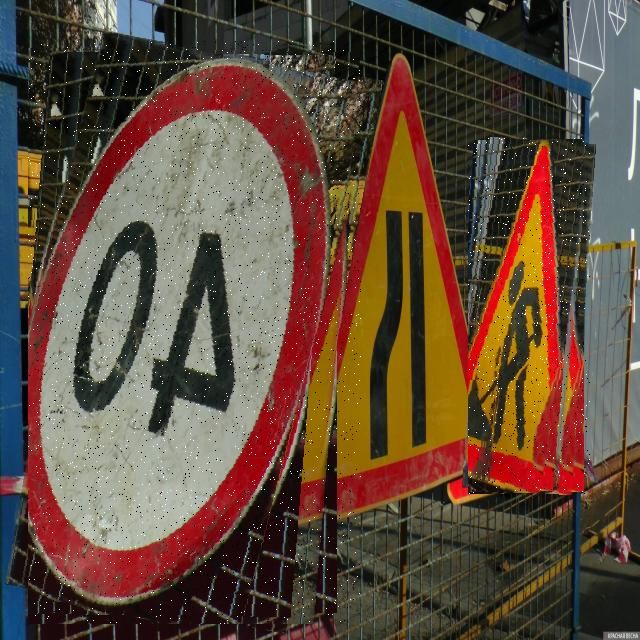roadwork: (468, 138, 590, 494)
speed limit 40: (28, 41, 361, 624)
